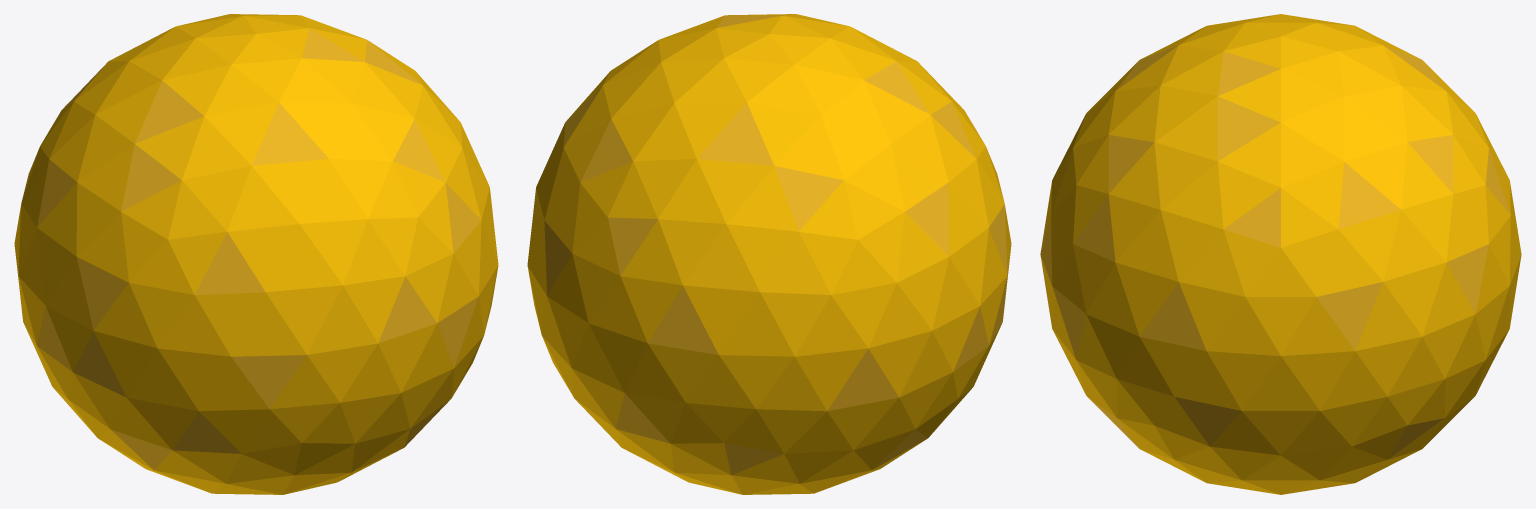
File: Sun.fbx
3 views of the same model, side by side, from view 1: azimuth 30°, elevation 25°; view 2: azimuth 150°, elevation 25°; view 3: azimuth 270°, elevation 25° (orthographic).
Visible parts, largest first — view 1: Icosphere.001, Icosphere; view 2: Icosphere.001, Icosphere; view 3: Icosphere.001, Icosphere.
Part boxes in pixels (left/top/right/bottom): Icosphere.001: left=14, top=14, right=498, bottom=356; Icosphere: left=15, top=249, right=498, bottom=494; Icosphere.001: left=527, top=14, right=1011, bottom=356; Icosphere: left=527, top=249, right=1010, bottom=494; Icosphere.001: left=1040, top=14, right=1521, bottom=355; Icosphere: left=1040, top=256, right=1521, bottom=494.
Size of the model in its own units: 300 by 300 by 300.
